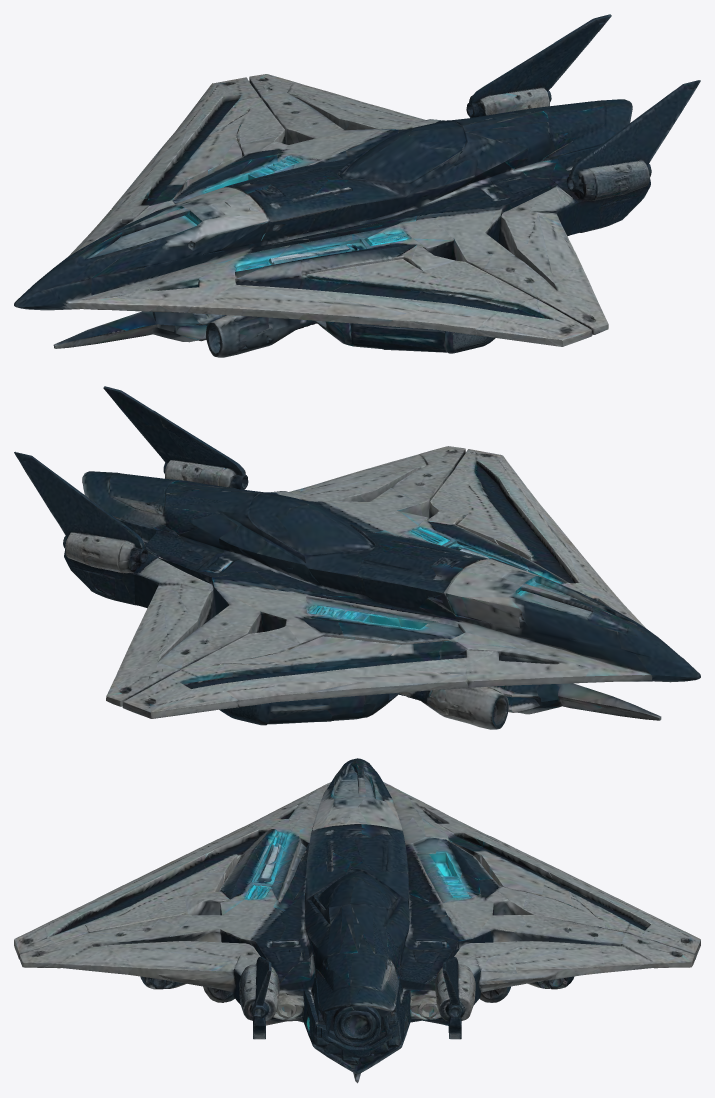
The model's file is a_interceptor.glb.
3 views of the same model, one above another, from view 1: azimuth 30°, elevation 25°; view 2: azimuth 150°, elevation 25°; view 3: azimuth 270°, elevation 25° (orthographic). The views are drawn at different scales.
Visible parts, largest first — view 1: mesh_0; view 2: mesh_0; view 3: mesh_0.
Boxes of the visible parts, x1,y1,x2,y2 form: mesh_0: (14, 14, 700, 357); mesh_0: (14, 386, 700, 729); mesh_0: (14, 758, 700, 1083).
Bounding box in the file's own units: 1.9 × 0.4982 × 1.8.
Materials: 1 (1 with a texture image).
